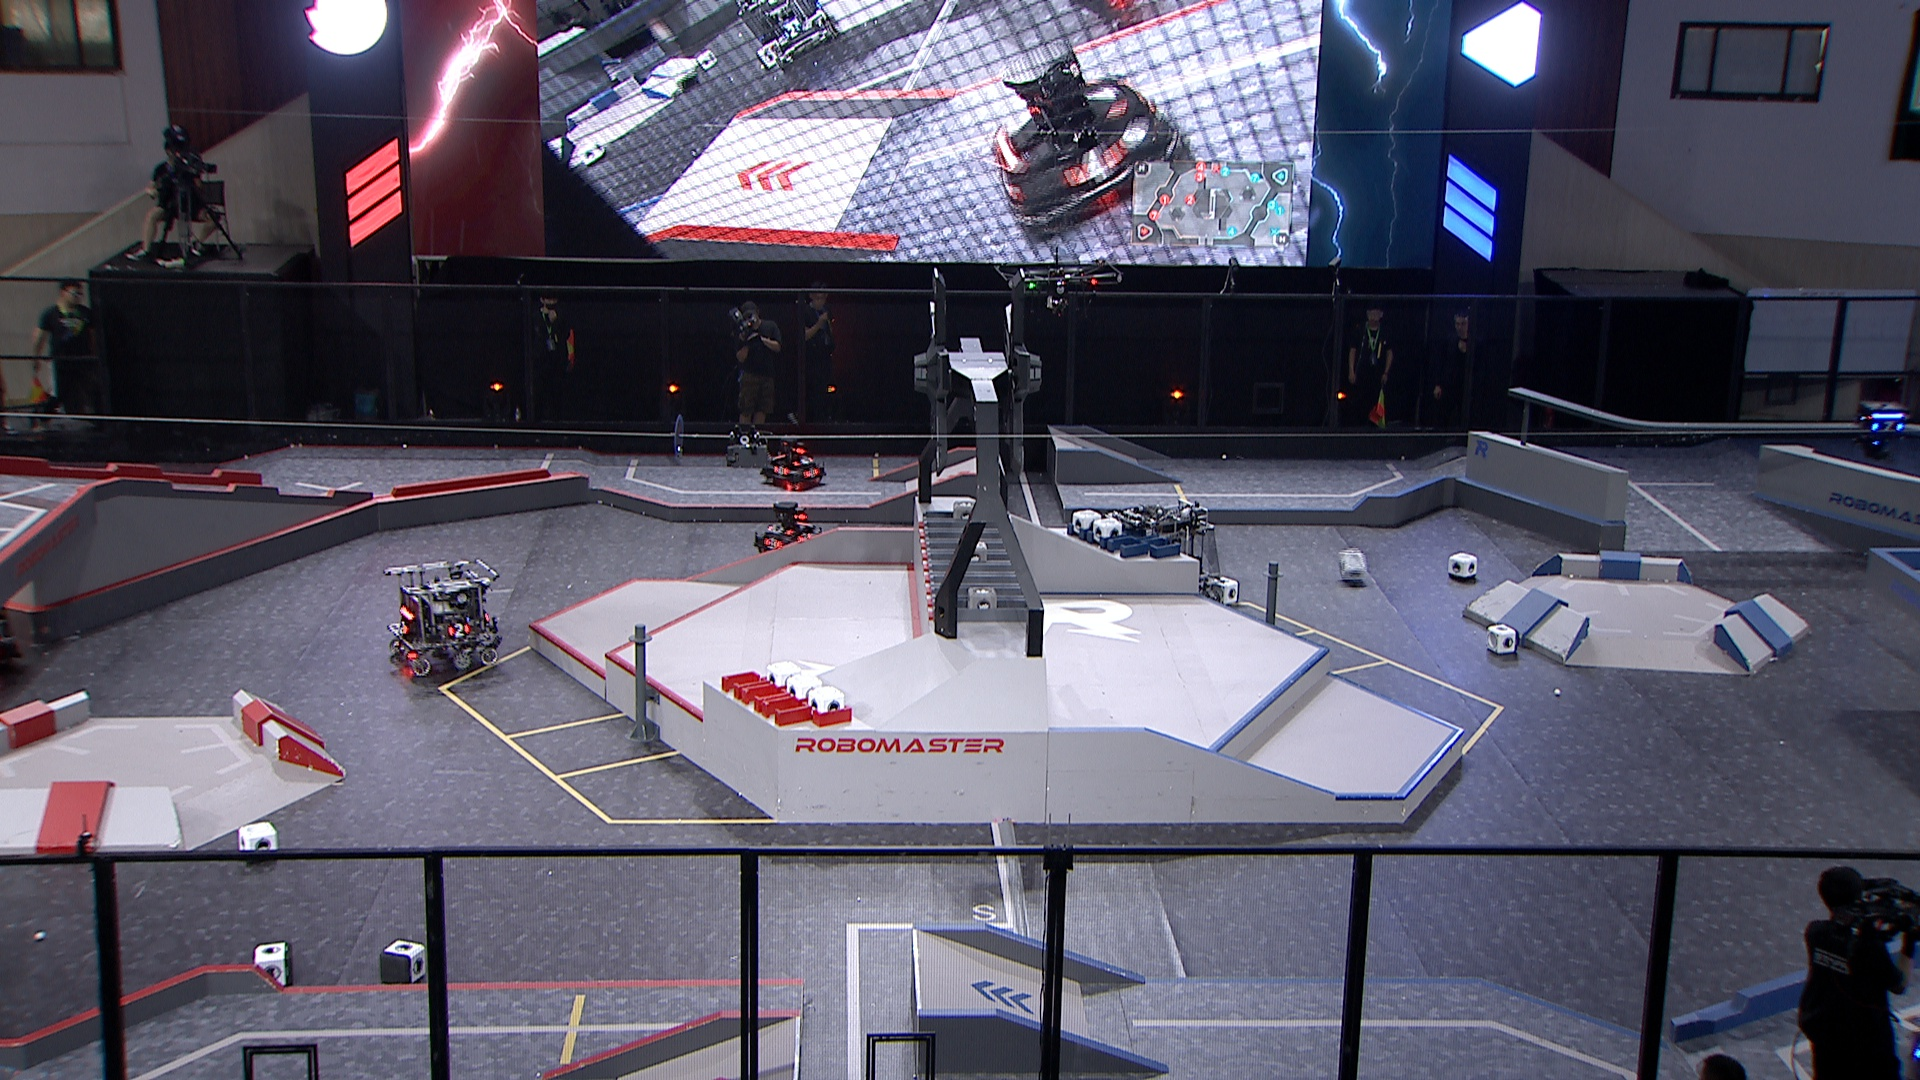armor: (1870, 418, 1902, 433), (451, 622, 471, 638), (761, 537, 782, 551), (773, 462, 789, 476), (793, 531, 808, 545), (767, 524, 785, 535), (808, 465, 822, 479), (398, 621, 410, 636), (795, 456, 812, 465)
car: (385, 556, 506, 680), (756, 498, 828, 567), (756, 436, 827, 491)
ignore: (984, 45, 1178, 232)
watcher: (1851, 400, 1909, 462)
